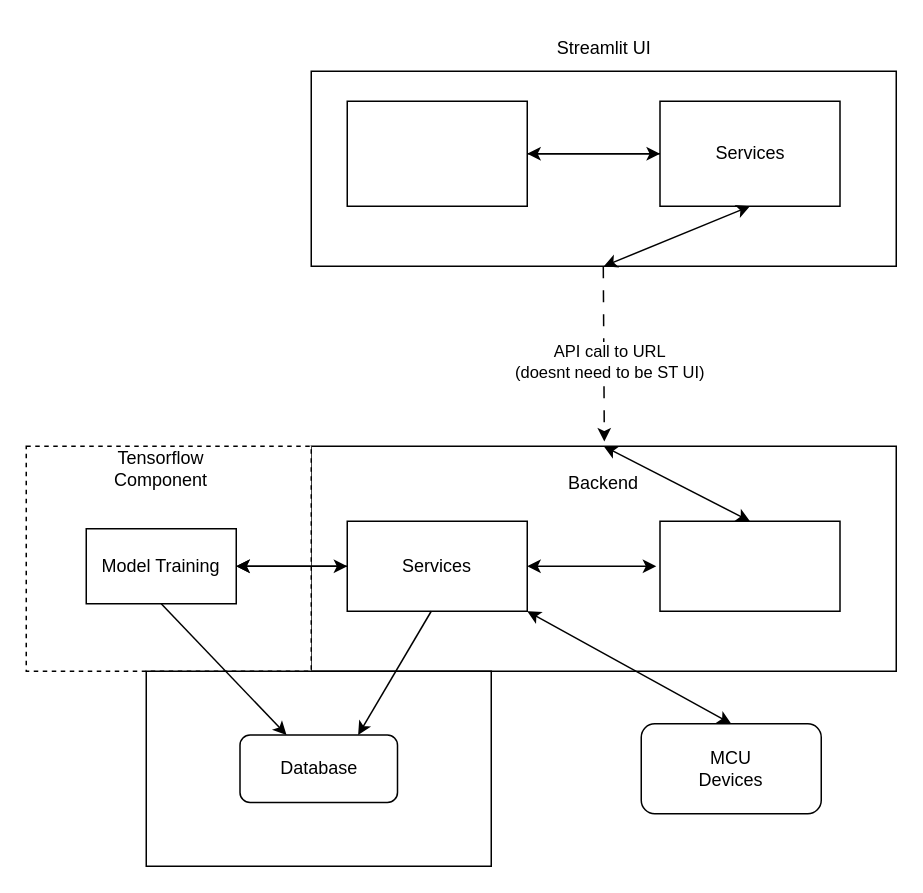
Image size: 923x893. Some labels were removed from this diagram. The centre of each missing label's shape, as x and y in pixels:
"Pages" belongs at [436,153].
"Routers" belongs at [749,565].
